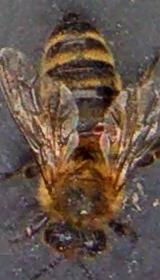varroa_mite: (88, 110, 111, 149)
